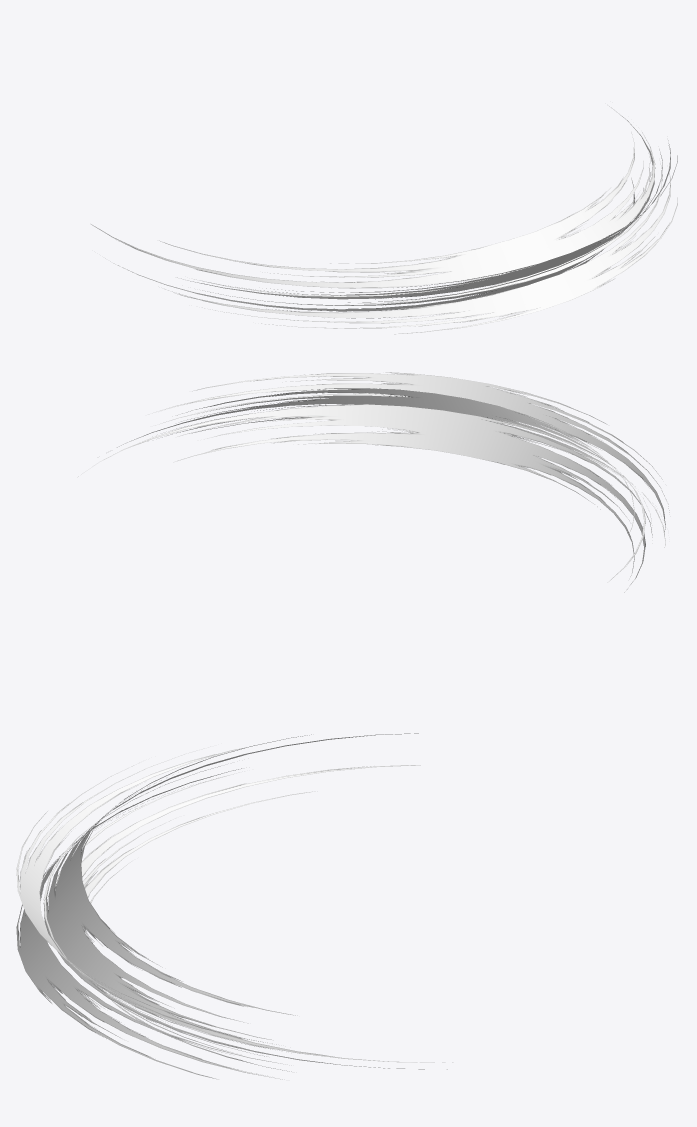
The model's file is eff_tun004_mesh.fbx.
The picture shows the model from 3 angles, top to bottom: view 1: azimuth 30°, elevation 25°; view 2: azimuth 150°, elevation 25°; view 3: azimuth 270°, elevation 25°; orthographic projection. The views are drawn at different scales.
Visible parts, largest first — view 1: eff_tun004_mesh; view 2: eff_tun004_mesh; view 3: eff_tun004_mesh.
Part boxes in pixels (left/top/right/bottom): eff_tun004_mesh: left=91, top=106, right=677, bottom=334; eff_tun004_mesh: left=77, top=372, right=669, bottom=592; eff_tun004_mesh: left=16, top=733, right=453, bottom=1079.
Bounding box in the file's own units: 539 × 54.81 × 433.
